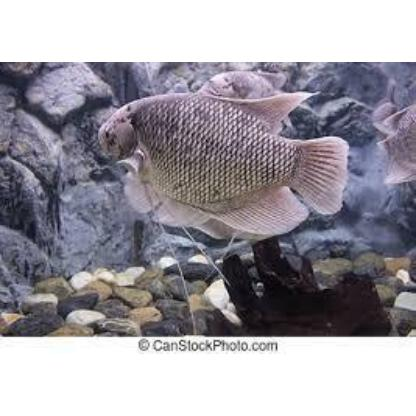gurame: (97, 88, 341, 236)
